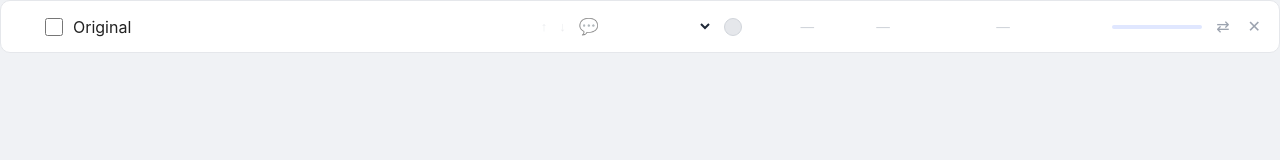
Test case: TodoItem › Inline editing › shows an input when the title is double-clicked
This screenshot has width=1280, height=160.
Double-click the text "Original": (102, 26) [73,16,131,36]
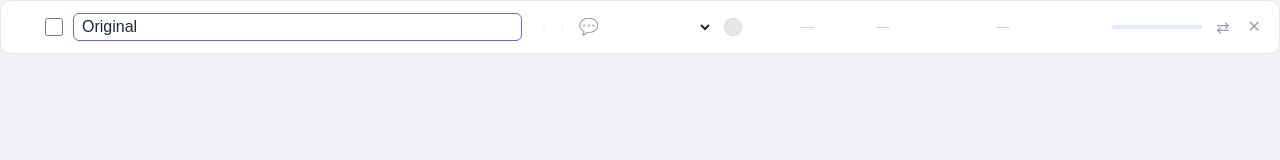
Result: the field is shown at [73,13,522,41]
